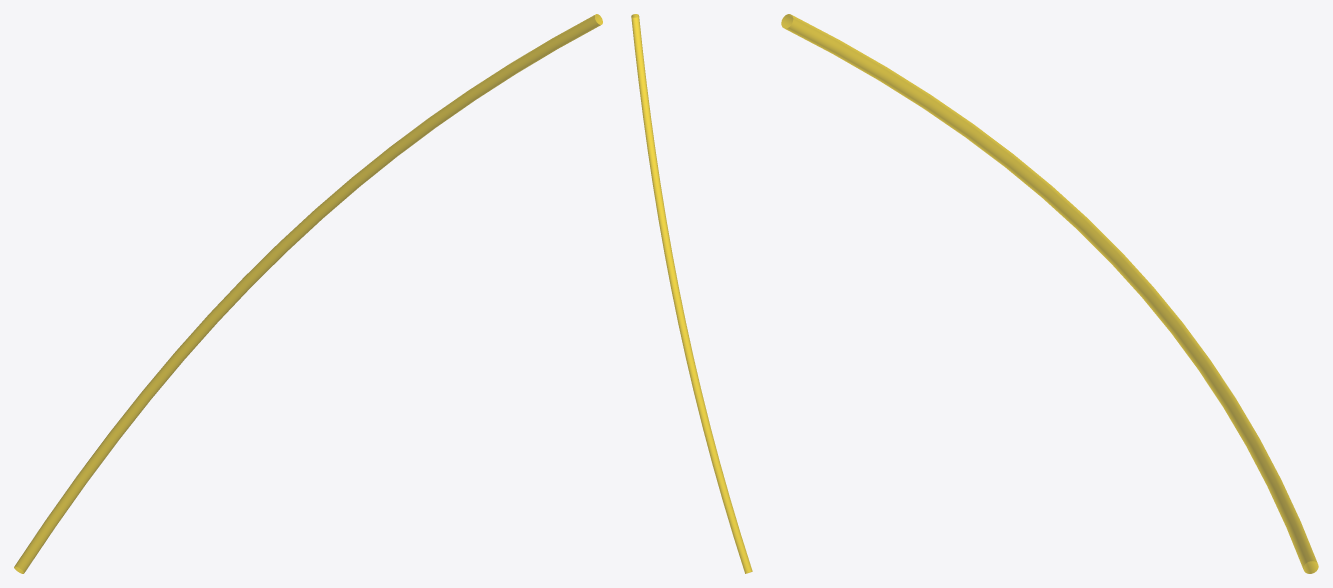
The model's file is Event_402970704_track_13.fbx.
3 renders of one model, left to right at view 1: azimuth 30°, elevation 25°; view 2: azimuth 150°, elevation 25°; view 3: azimuth 270°, elevation 25°, orthographic. The views are drawn at different scales.
Visible parts, largest first — view 1: Model; view 2: Model; view 3: Model.
Boxes of the visible parts, x1,y1,x2,y2 form: Model: (14,14,602,573); Model: (631,14,752,573); Model: (781,14,1318,573).
Bounding box in the file's own units: 1.47 × 2.24 × 1.38.
